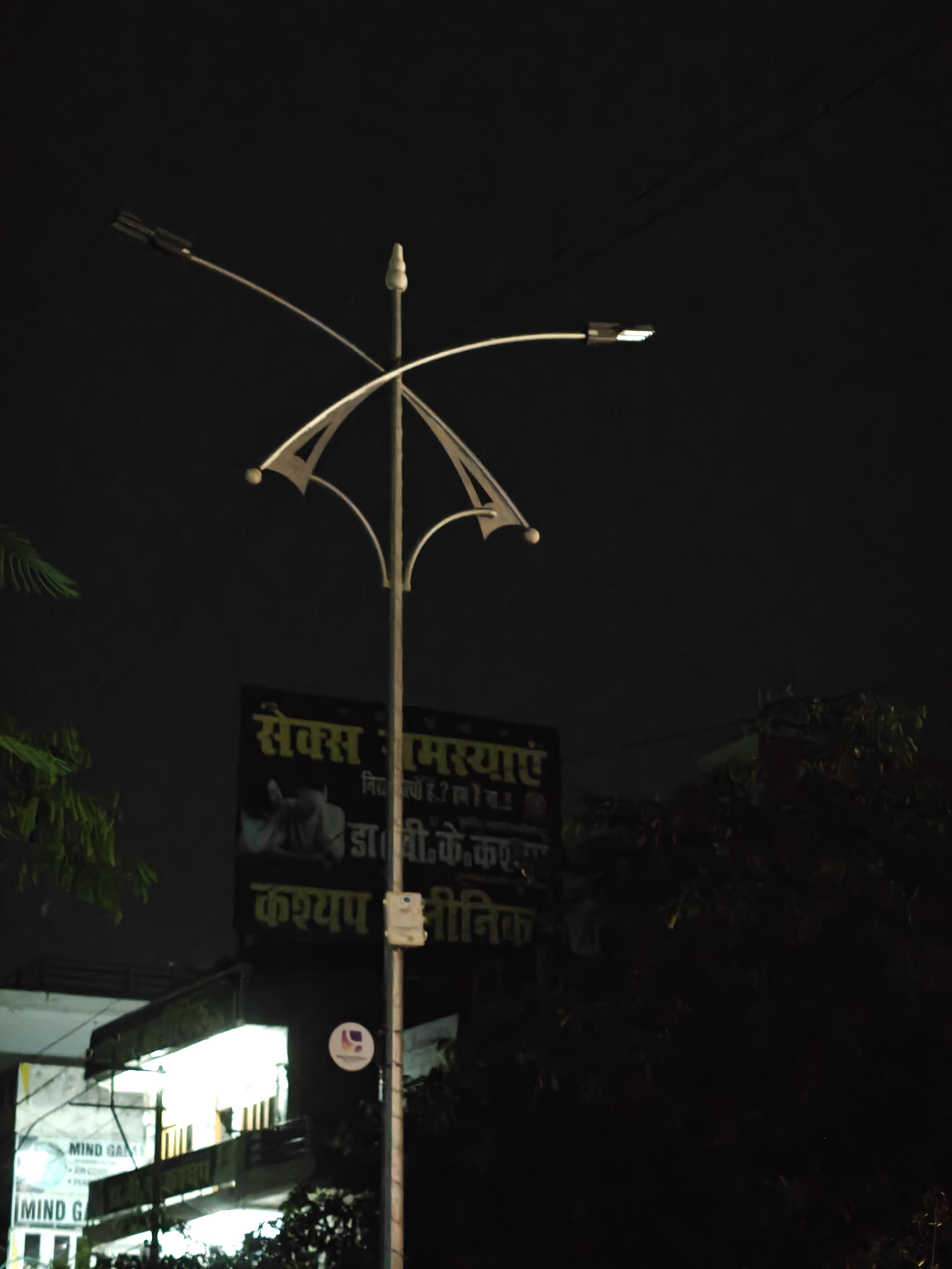streetlight: (107, 200, 378, 374)
